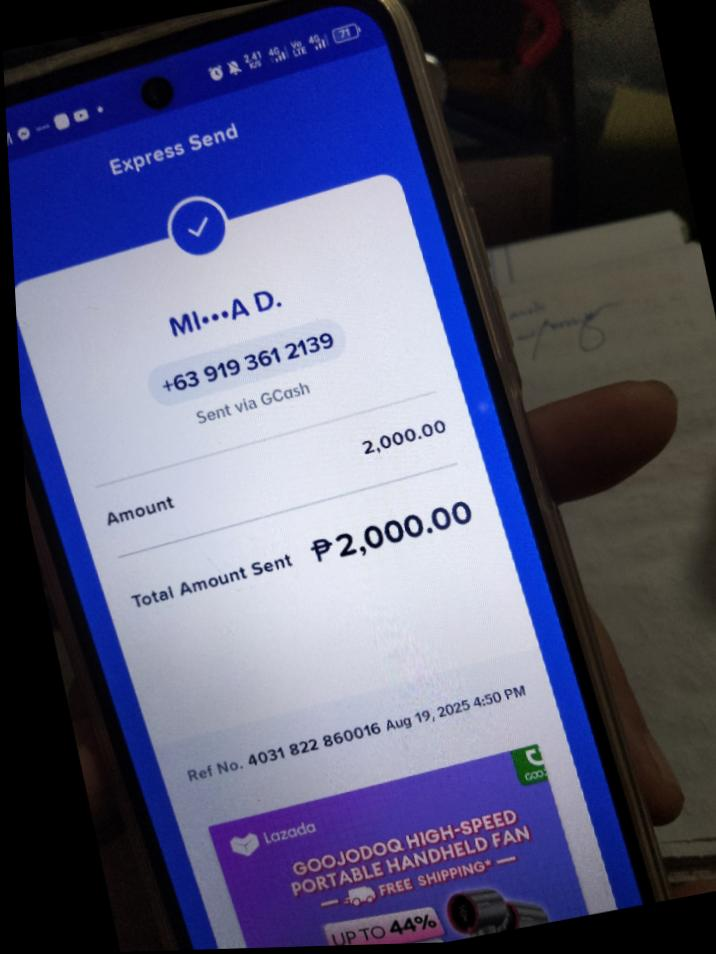Receipt: (9, 51, 638, 950)
